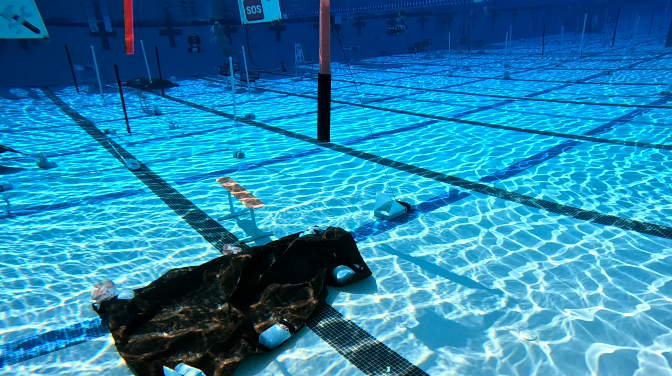pathmarker: (215, 176, 261, 207)
sandbag: (91, 227, 371, 375)
